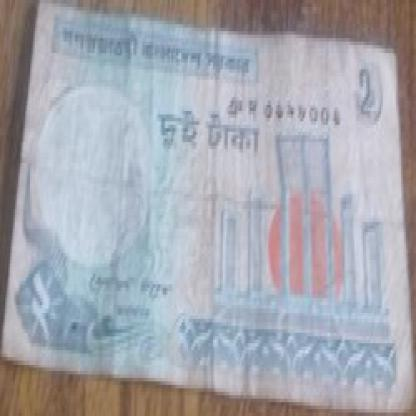two taka: (22, 246, 76, 343), (348, 69, 388, 132)
